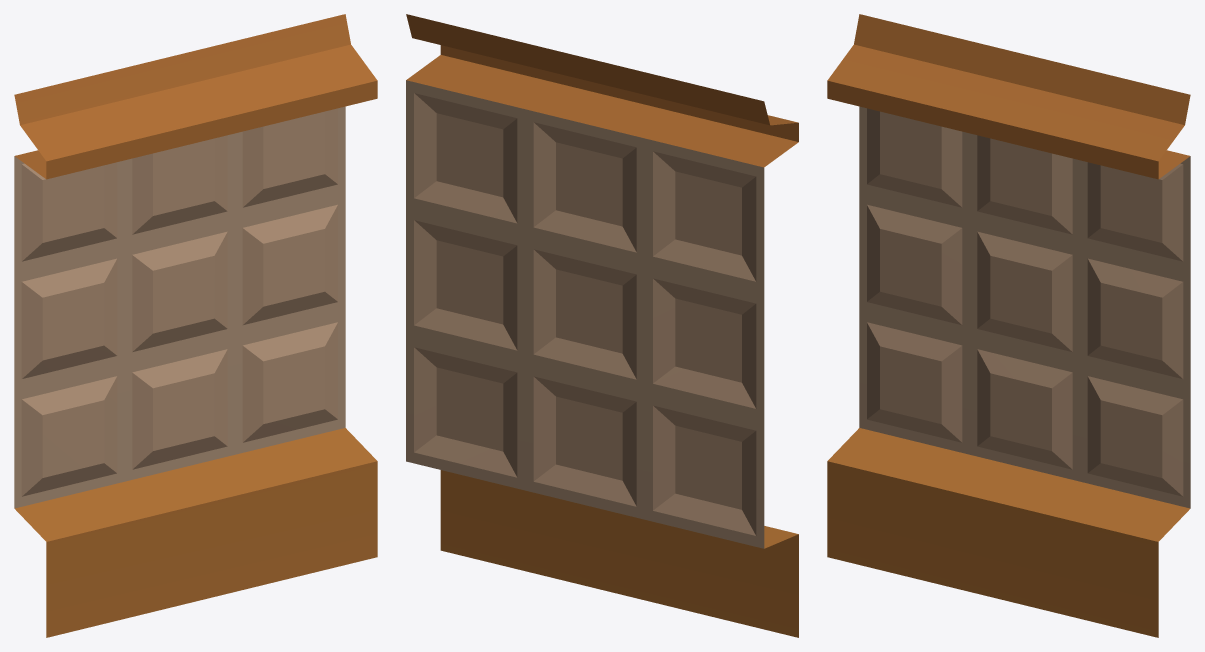
Rendered from Wall_bumb_B.fbx.
3 renders of one model, left to right at view 1: azimuth 30°, elevation 25°; view 2: azimuth 150°, elevation 25°; view 3: azimuth 330°, elevation 25°, orthographic. The views are drawn at different scales.
Parts seen in each view (by area): view 1: Wall_bumb_B; view 2: Wall_bumb_B; view 3: Wall_bumb_B.
Boxes of the visible parts, <box> form: Wall_bumb_B: <box>14,14,377,637</box>; Wall_bumb_B: <box>406,14,798,637</box>; Wall_bumb_B: <box>827,14,1190,637</box>.
Size of the model in its own units: 200 by 300 by 33.54.
